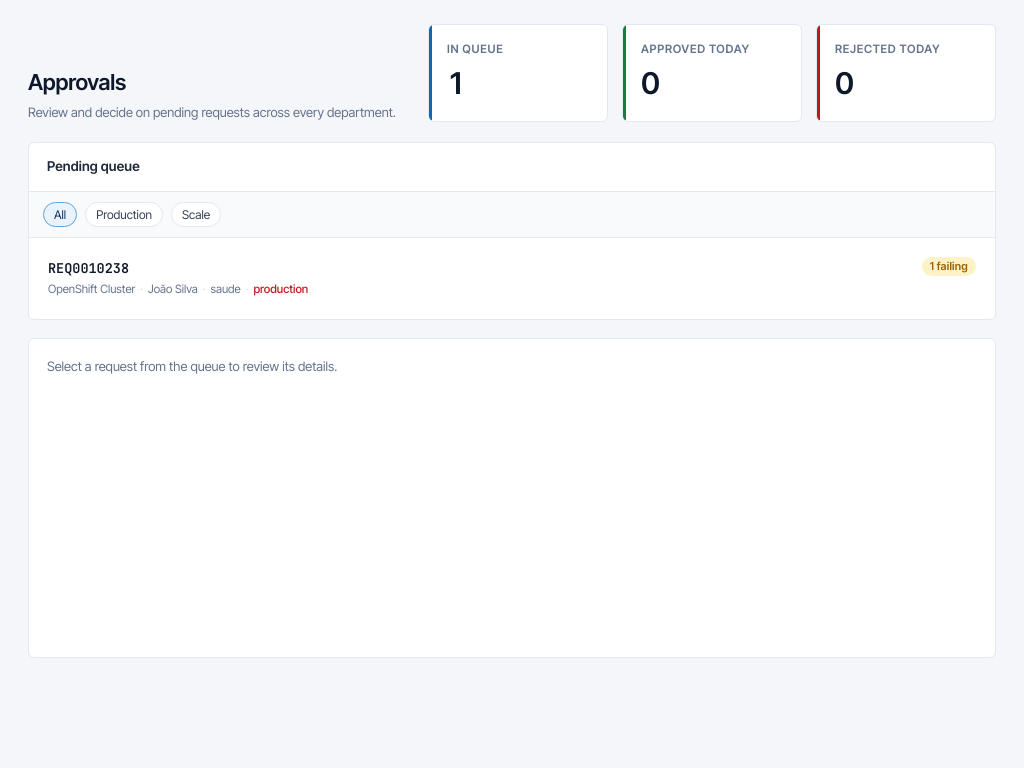
Scenario: Approvals › selecting a queue item populates the detail pane with justification and policy checks
Click the button with class "approval-row" at (88, 268), box [35, 244, 989, 309]
(page scrolled)
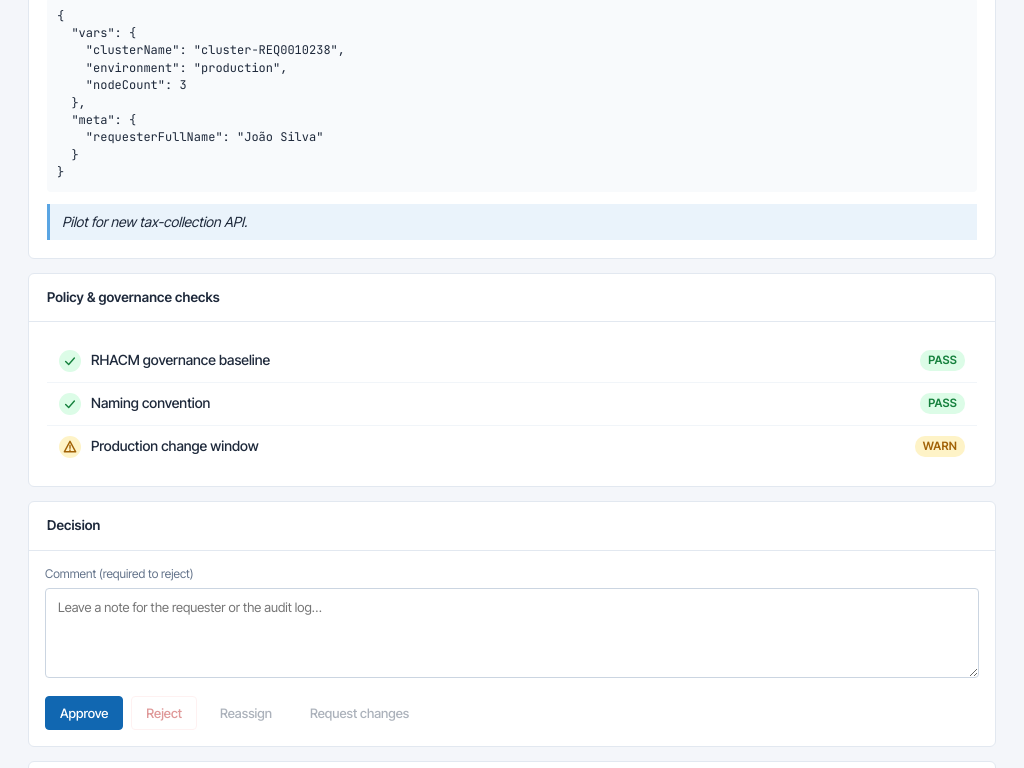
Expected: the element with test id "decision-panel" shows "Pilot for new tax-collection API.", [62, 212, 247, 230]
